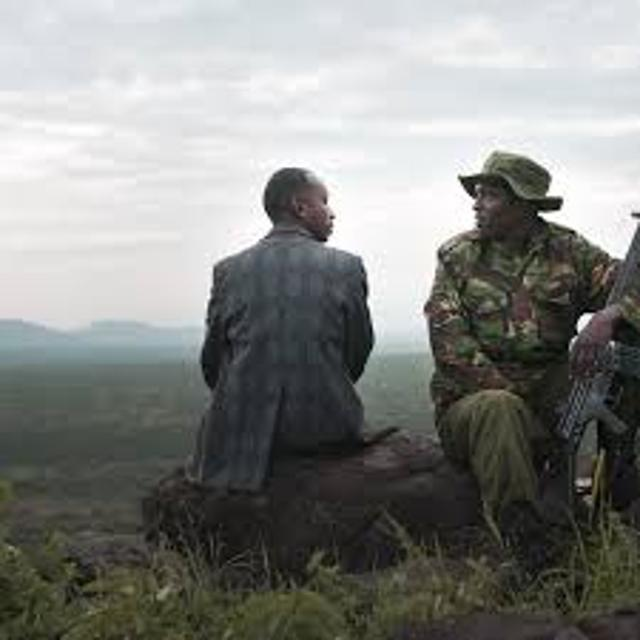gun: (523, 181, 640, 531)
poacher: (146, 148, 424, 523)
ranger: (386, 127, 640, 598)
